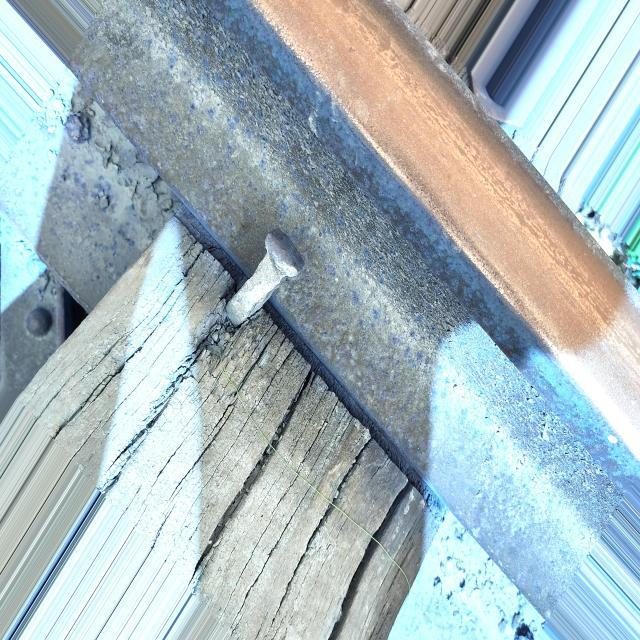Good Fasteners: (226, 229, 304, 326)
